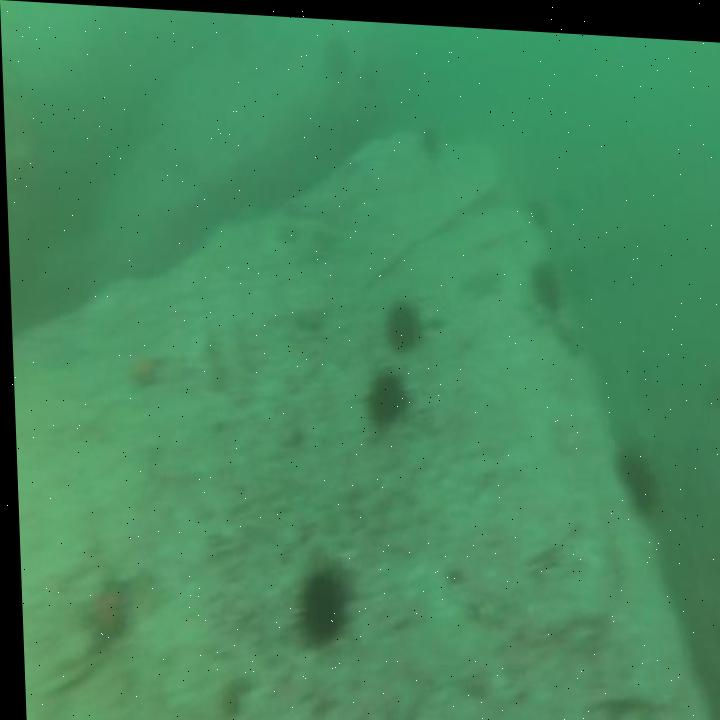echinus: (286, 551, 350, 654), (357, 356, 409, 433), (610, 433, 657, 515), (526, 243, 566, 315), (377, 291, 422, 355), (319, 26, 349, 80), (413, 112, 444, 156), (519, 186, 550, 226)
starfish: (68, 563, 138, 665), (122, 345, 165, 395)
